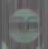No overtake: (4, 3, 43, 44)
